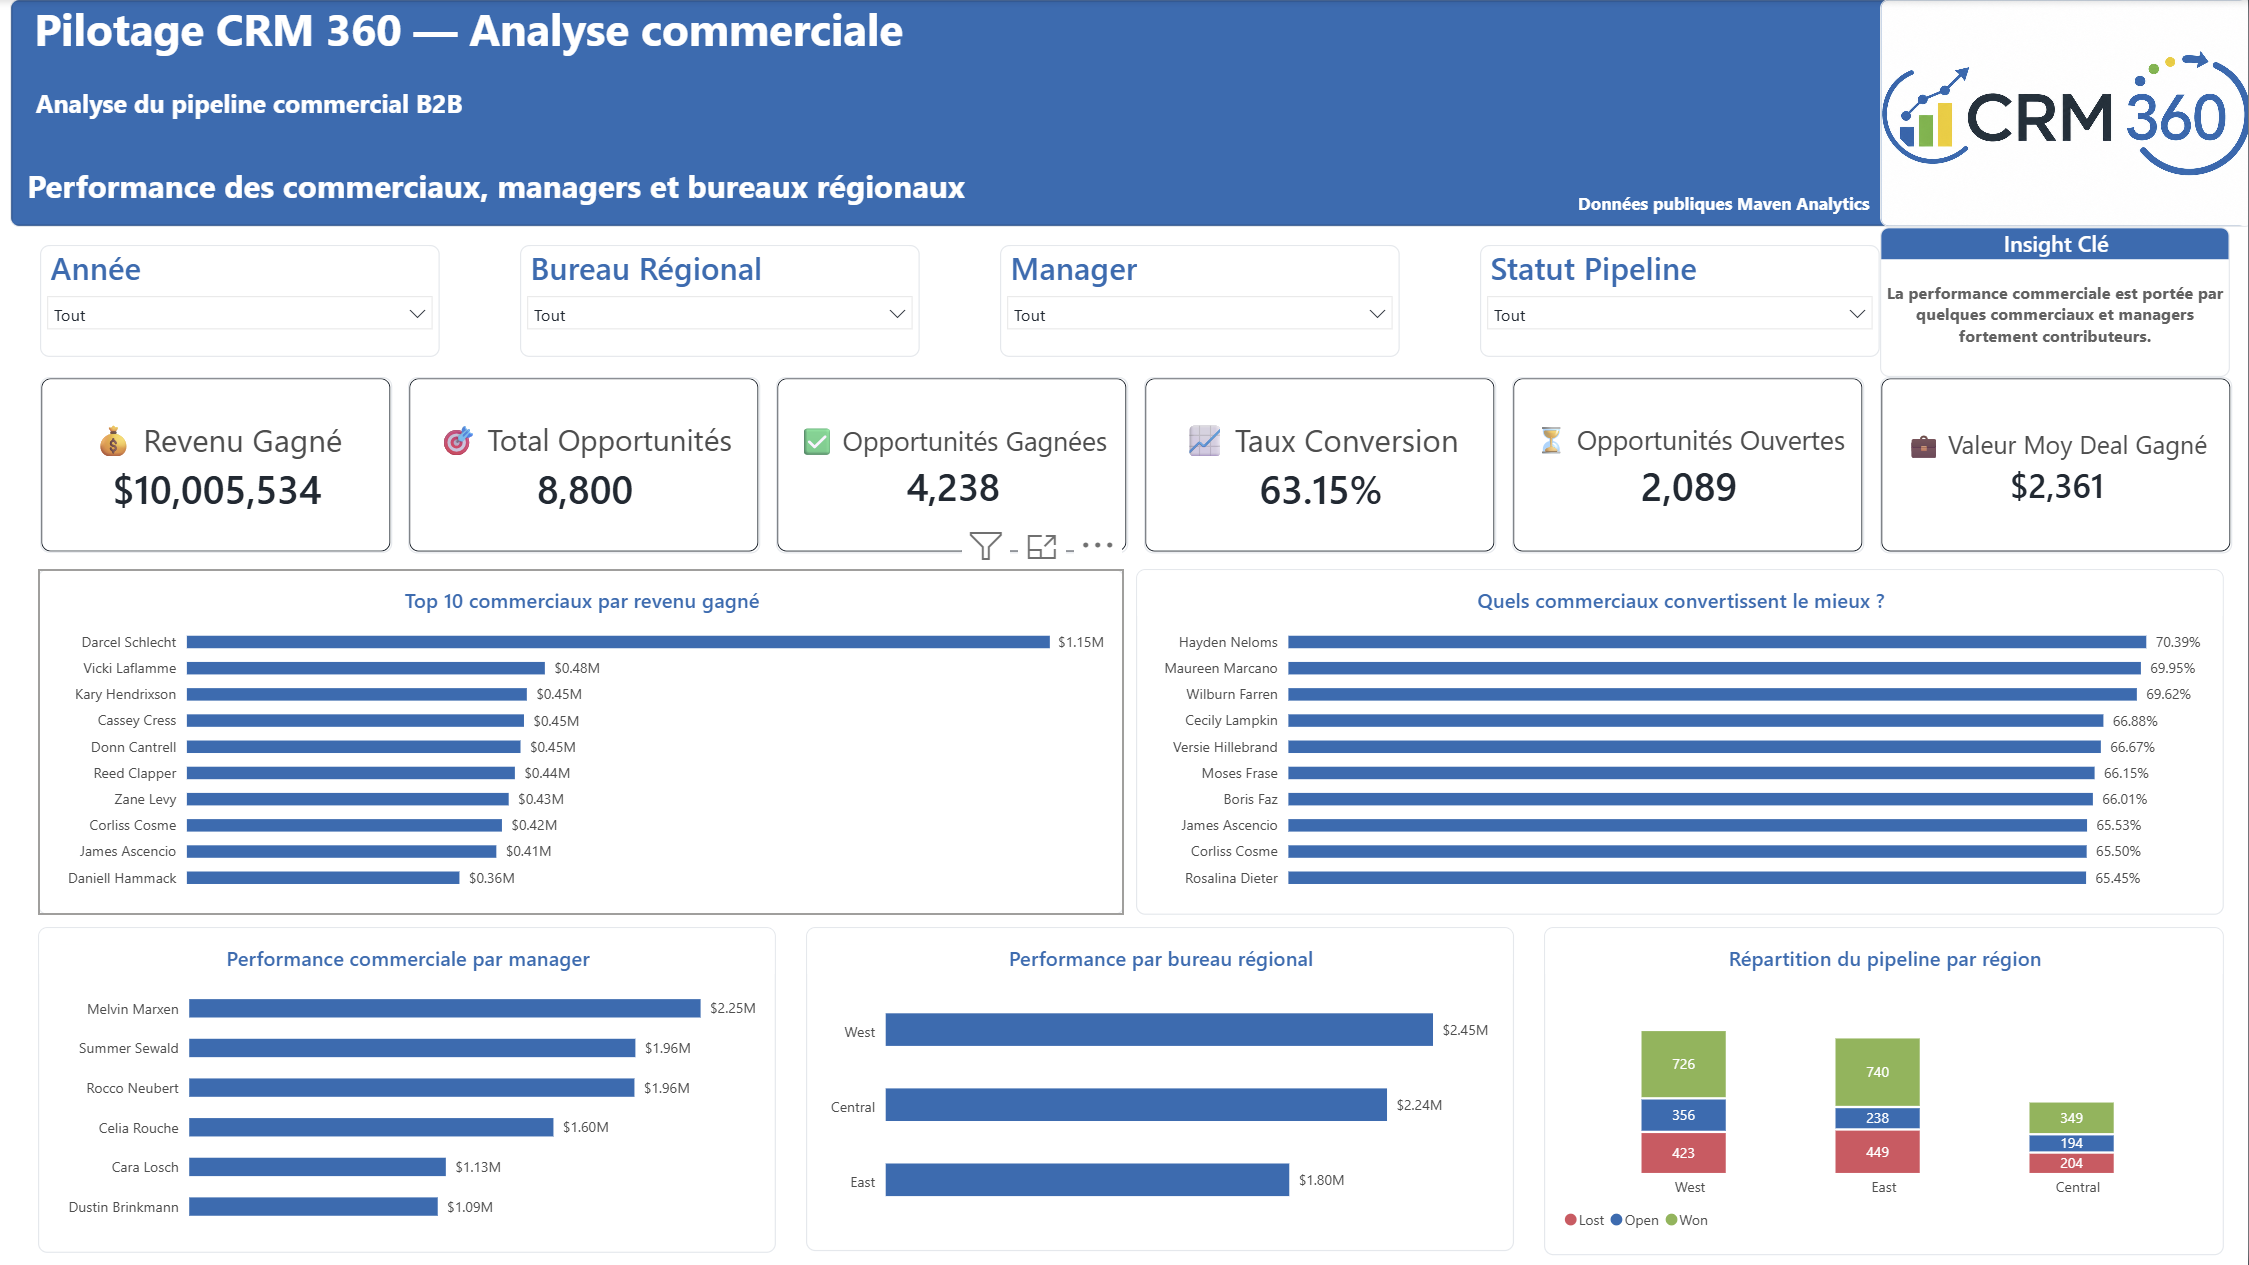

The page's visual inventory and layout, read from the dashboard file:
{"tool":"powerbi","page":{"name":"Analyse commerciale","canvas":[1920,1080],"ordinal":1},"visuals":[{"type":"shape","box":[10.2,0,1909.2,194.5],"z":0},{"type":"image","box":[1605.5,0,319.1,194.5],"z":1000},{"type":"textbox","box":[10.2,0,1909.2,194.5],"z":2000},{"type":"textbox","box":[1347.9,163.8,571.6,61.4],"z":3000},{"type":"slicer","fields":{"Values":["Dim_Calendar.Année"]},"box":[35.8,209.9,341.2,95.5],"z":4000},{"type":"slicer","fields":{"Values":["Dim_Sales_Teams.regional_office"]},"box":[445.3,209.9,341.2,95.5],"z":5000},{"type":"slicer","fields":{"Values":["Dim_Sales_Teams.manager"]},"box":[854.8,209.9,341.2,95.5],"z":6000},{"type":"slicer","fields":{"Values":["Fact_Sales_Pipeline.Pipeline Status"]},"box":[1264.3,209.9,341.2,95.5],"z":7000},{"type":"cardVisual","fields":{"Data":["_Mesures.Revenu Gagné"]},"box":[35.8,322.3,300.3,150.1],"z":8000},{"type":"cardVisual","fields":{"Data":["_Mesures.Total Opportunités"]},"box":[349.6,322.3,300.6,150.3],"z":9000},{"type":"cardVisual","fields":{"Data":["_Mesures.Opportunités Gagnées"]},"box":[663.6,322.3,300.6,150.3],"z":10000},{"type":"cardVisual","fields":{"Data":["_Mesures.Taux Conversion"]},"box":[977.6,322.3,300.6,150.3],"z":11000},{"type":"cardVisual","fields":{"Data":["_Mesures.Opportunités Ouvertes"]},"box":[1291.6,322.3,300.6,150.3],"z":12000},{"type":"cardVisual","fields":{"Data":["_Mesures.Valeur Moyenne Deal Gagné"]},"box":[1605.6,322.3,300.6,150.3],"z":13000},{"type":"clusteredBarChart","title":"Top 10 commerciaux par revenu gagné","fields":{"Category":["Dim_Sales_Teams.sales_agent"],"Y":["_Mesures.Revenu Gagné"]},"box":[34.1,486.3,926.4,295.2],"z":14000},{"type":"clusteredBarChart","title":"Quels commerciaux convertissent le mieux ?","fields":{"Category":["Dim_Sales_Teams.sales_agent"],"Y":["_Mesures.Taux Conversion"]},"box":[970.8,486.3,928.2,295.2],"z":15000},{"type":"clusteredBarChart","title":"Performance par bureau régional","fields":{"Category":["Dim_Sales_Teams.regional_office"],"Y":["_Mesures.Revenu Gagné"]},"box":[689.3,791.7,604,276.4],"z":16000},{"type":"columnChart","title":"Répartition du pipeline par région","fields":{"Category":["Dim_Sales_Teams.regional_office"],"Series":["Fact_Sales_Pipeline.Pipeline Status"],"Y":["_Mesures.Total Opportunités"]},"box":[1318.9,791.7,580.1,279.8],"z":17000},{"type":"clusteredBarChart","title":"Performance commerciale par manager","fields":{"Category":["Dim_Sales_Teams.manager"],"Y":["_Mesures.Revenu Gagné"]},"box":[34.1,791.7,629.6,278.1],"z":18000},{"type":"textbox","title":"Insight Clé","box":[1605.5,194.5,298.6,128],"z":18001}]}

Visuals, with their boxes in screenshot pixels (x1, y1, x2, y2), scaled from the page's 1920x1080 canvas onto the 2249x1265 screenshot:
shape: crop(12, 0, 2248, 228)
image: crop(1881, 0, 2248, 228)
textbox: crop(12, 0, 2248, 228)
textbox: crop(1579, 192, 2248, 264)
slicer - Dim_Calendar.Année: crop(42, 246, 442, 358)
slicer - Dim_Sales_Teams.regional_office: crop(522, 246, 921, 358)
slicer - Dim_Sales_Teams.manager: crop(1001, 246, 1401, 358)
slicer - Fact_Sales_Pipeline.Pipeline Status: crop(1481, 246, 1881, 358)
cardVisual - _Mesures.Revenu Gagné: crop(42, 378, 394, 553)
cardVisual - _Mesures.Total Opportunités: crop(410, 378, 762, 554)
cardVisual - _Mesures.Opportunités Gagnées: crop(777, 378, 1129, 554)
cardVisual - _Mesures.Taux Conversion: crop(1145, 378, 1497, 554)
cardVisual - _Mesures.Opportunités Ouvertes: crop(1513, 378, 1865, 554)
cardVisual - _Mesures.Valeur Moyenne Deal Gagné: crop(1881, 378, 2233, 554)
"Top 10 commerciaux par revenu gagné" clusteredBarChart: crop(40, 570, 1125, 915)
"Quels commerciaux convertissent le mieux ?" clusteredBarChart: crop(1137, 570, 2224, 915)
"Performance par bureau régional" clusteredBarChart: crop(807, 927, 1515, 1251)
"Répartition du pipeline par région" columnChart: crop(1545, 927, 2224, 1255)
"Performance commerciale par manager" clusteredBarChart: crop(40, 927, 777, 1253)
"Insight Clé" textbox: crop(1881, 228, 2230, 378)
